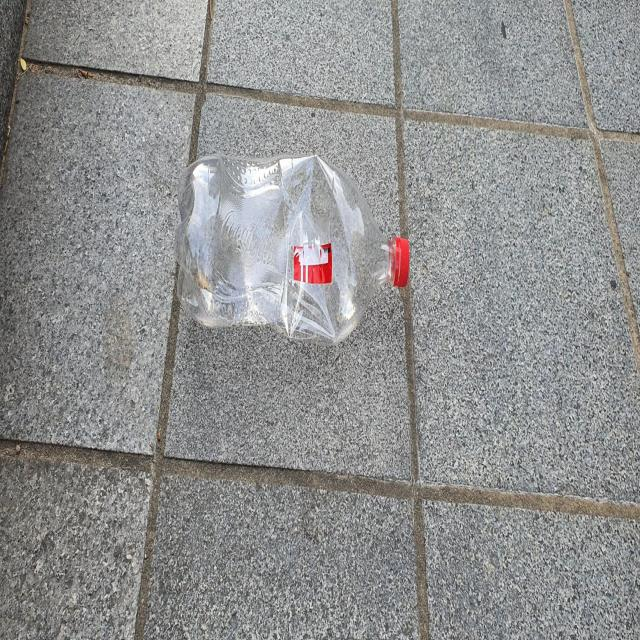plastic: (175, 154, 409, 342)
